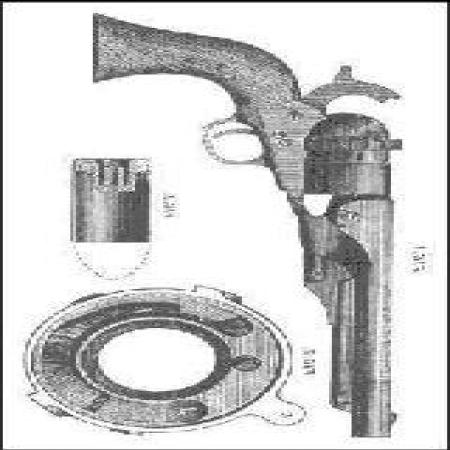Pistol: (99, 10, 410, 436)
